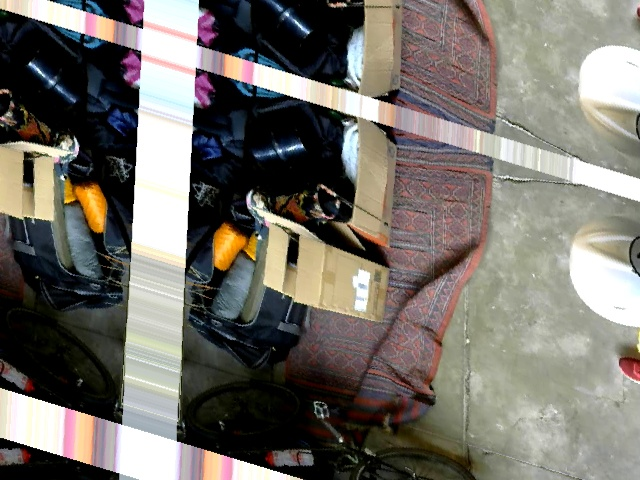one: (628, 231, 639, 287)
